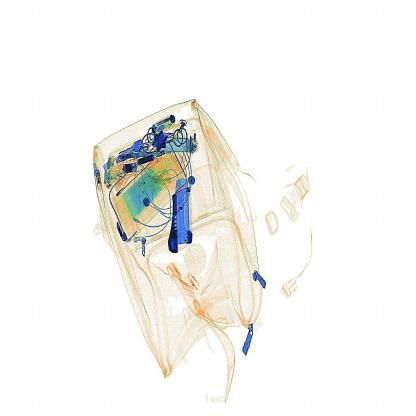pliers: (164, 173, 200, 261)
